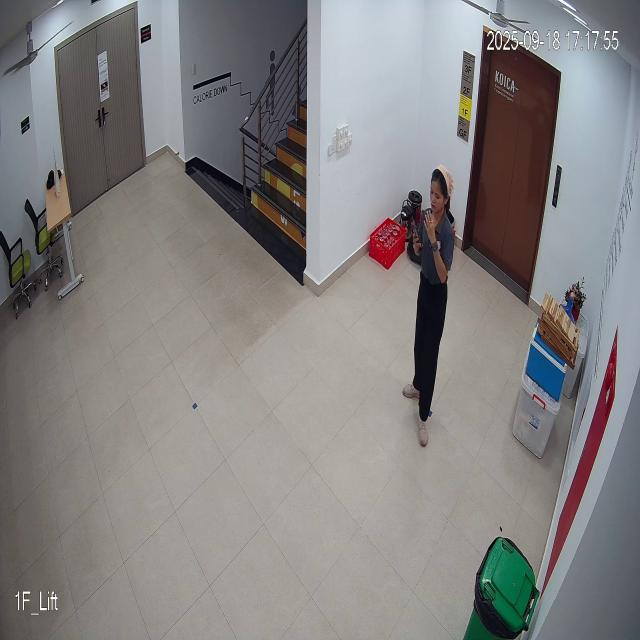face: (428, 163, 454, 220)
